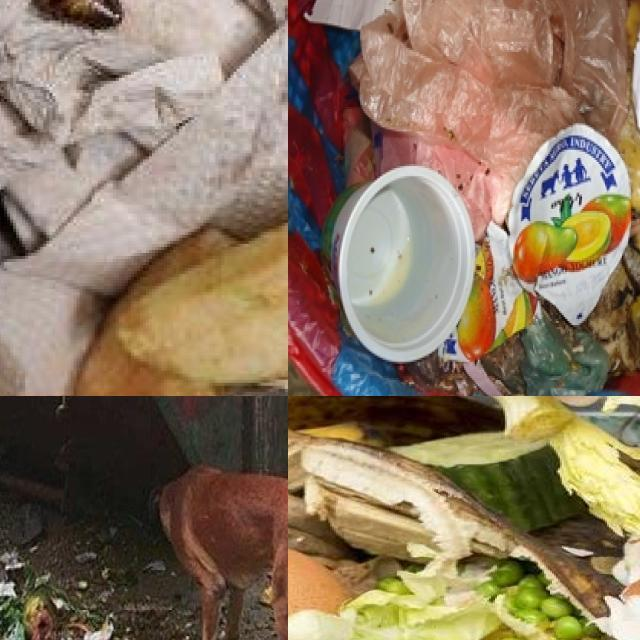Garbage: (310, 0, 640, 396), (288, 396, 640, 640)
Metal: (509, 123, 631, 325)
Plastic_Bag: (352, 0, 626, 238), (481, 307, 610, 396)
Plastic_Container: (322, 166, 475, 361)
Plastic_wraper: (438, 223, 536, 361)
